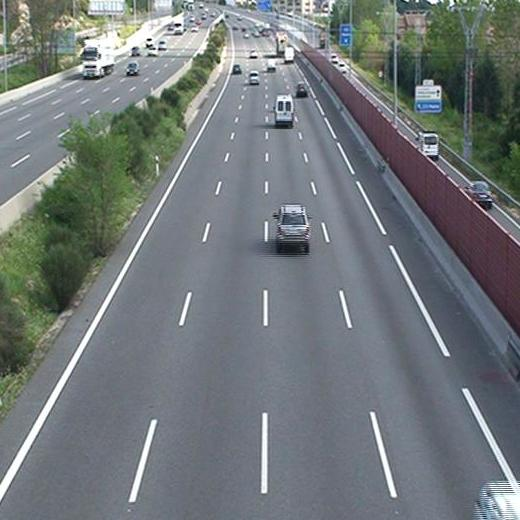car: (273, 205, 310, 254), (247, 71, 263, 85), (296, 82, 309, 98), (265, 59, 275, 70), (231, 63, 241, 74)
van: (274, 95, 294, 125), (284, 48, 294, 64)
